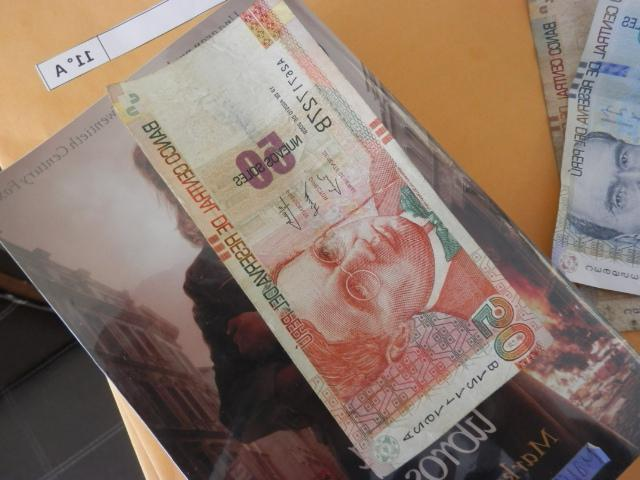B50: (107, 1, 555, 480)
